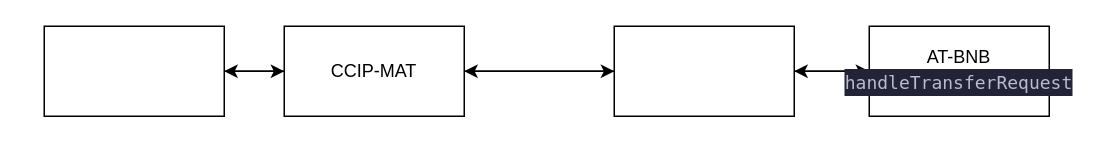
The diagram is 1100 pixels wide and 143 high, and some of its shapes have lost their labels. Here are the shapes that lost their labels. From the top down, the centre of each, then its label:
(x=133, y=70): AT-MATIC requestAssetTransfer
(x=703, y=70): CCIP-BNB
